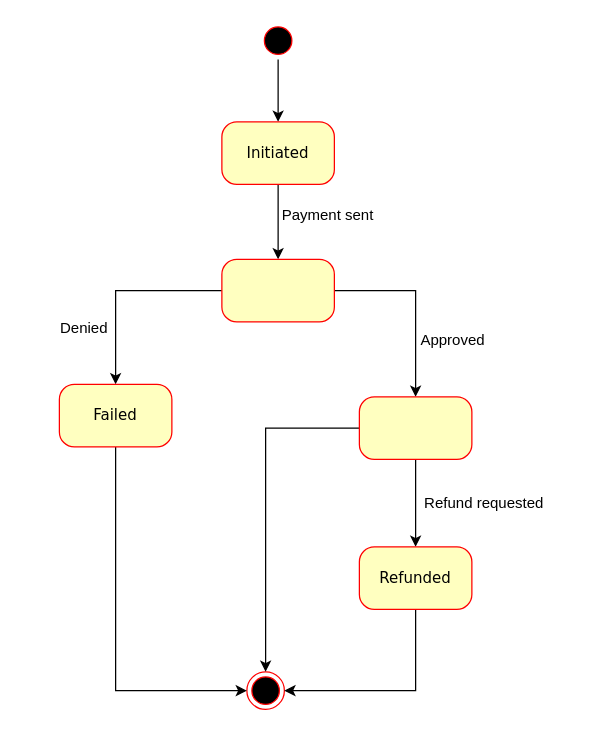
Image size: 593x731. Some labels were removed from this diagram. Each missing label, with the box of its shape:
Processing: (221, 258, 334, 322)
Successful: (358, 396, 472, 459)
